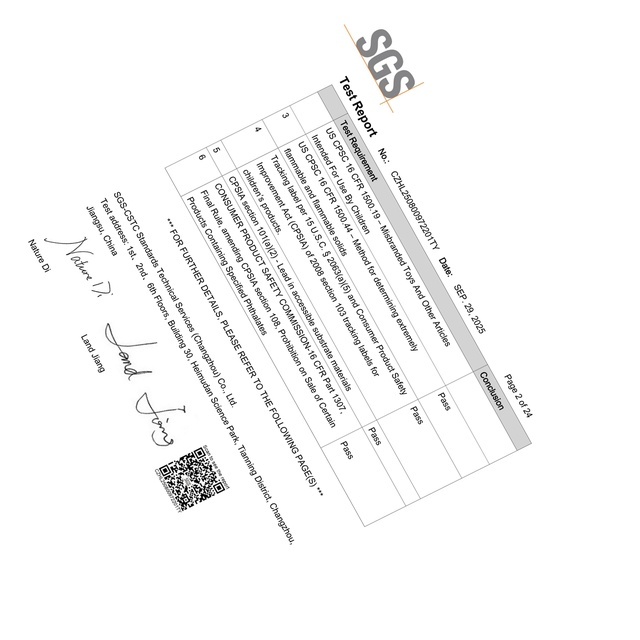sgs: (355, 28, 415, 98)
